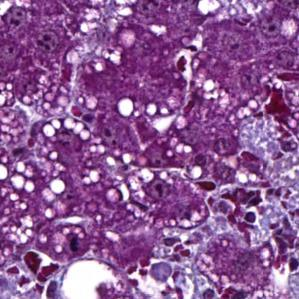ballooning: (61, 258, 129, 299)
